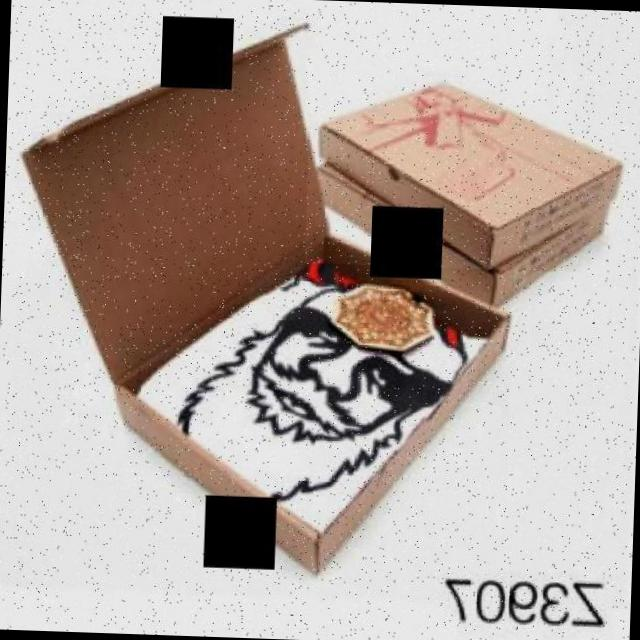box: (5, 18, 522, 586), (303, 59, 630, 274), (280, 166, 613, 352)
